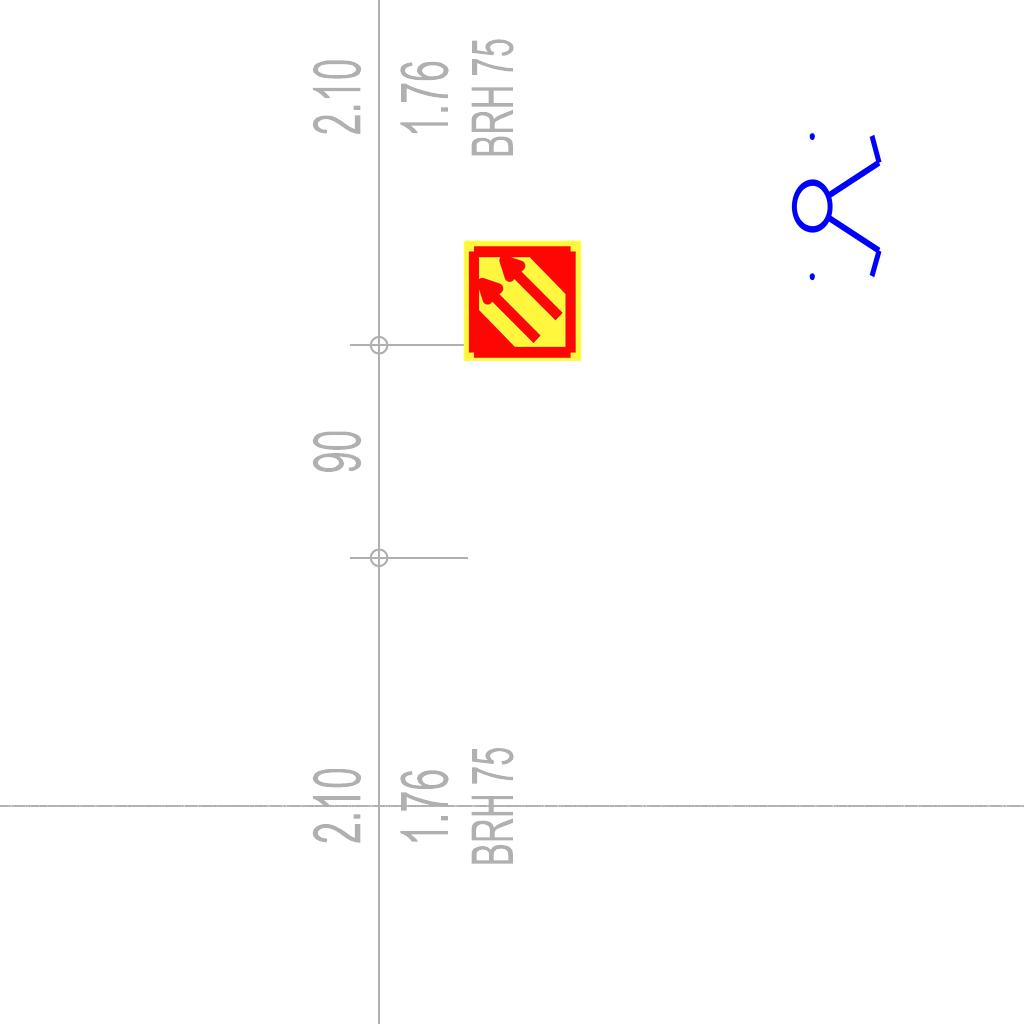ASR_Ansaugrauchmelder: (460, 238, 585, 363)
Serienschalter: (790, 121, 886, 289)
